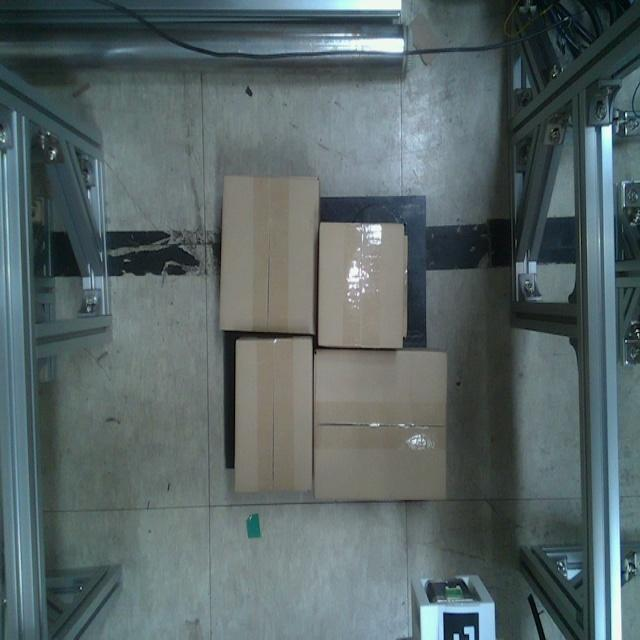box: (312, 348, 451, 502), (215, 175, 322, 338), (232, 336, 314, 496), (317, 220, 409, 350)
